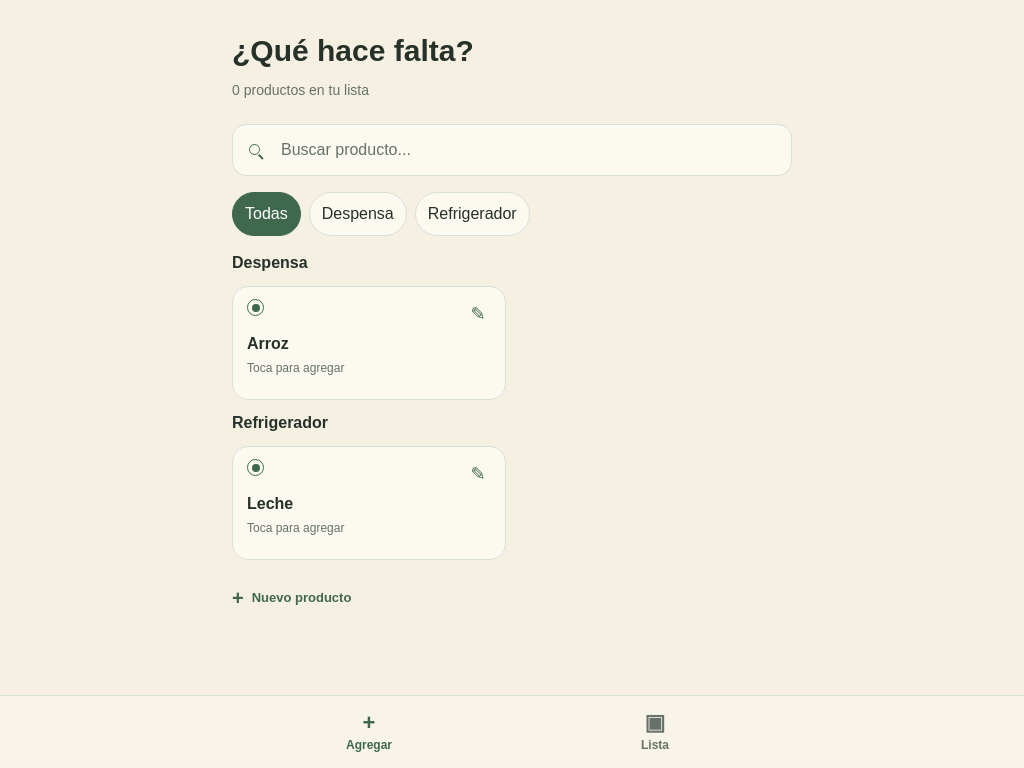
Test: catálogo y lista pendiente › muestra el estado vacío de /list
Click the link with aria-label "Lista (0)" at {"x": 655, "y": 730}, box [641,710,669,752]
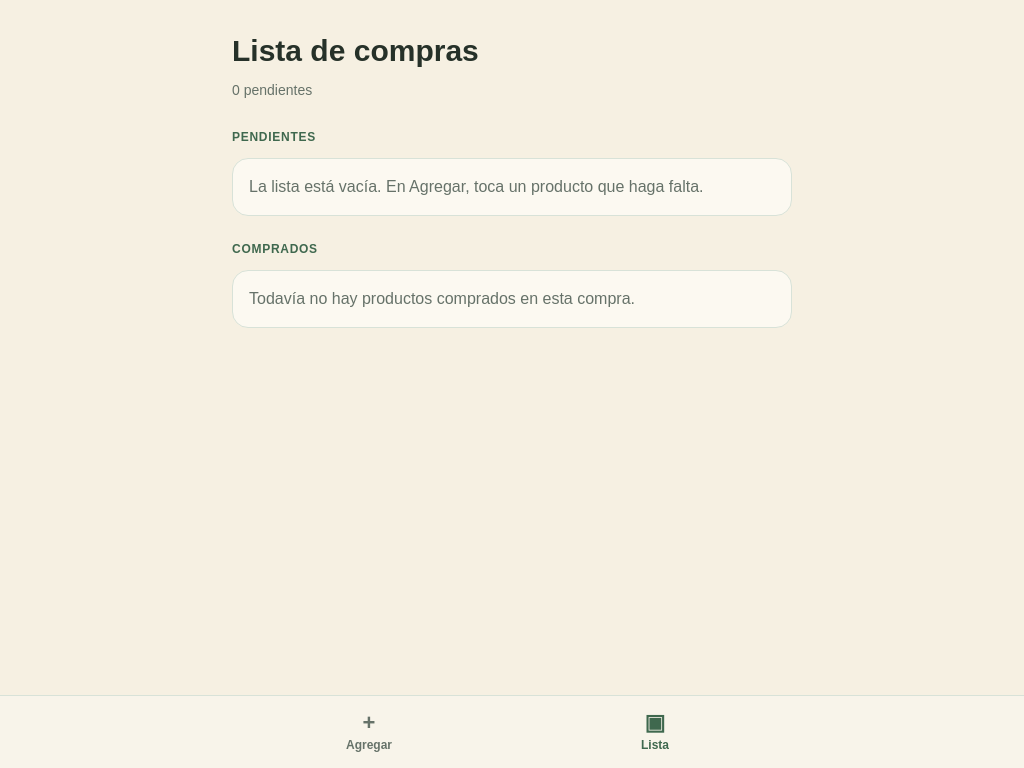
Now the text "La lista está vacía. En Agregar, toca un producto que haga falta." is shown, box [232,158,792,216]
